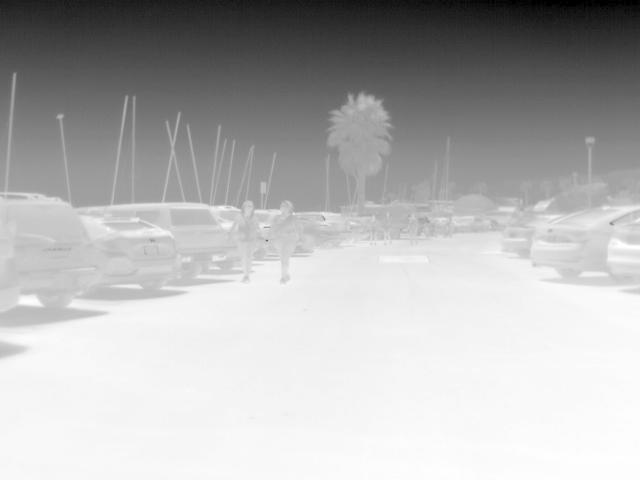car: (79, 202, 236, 282), (1, 189, 102, 312), (79, 211, 181, 296), (531, 204, 640, 282), (501, 214, 562, 257), (605, 216, 640, 285), (297, 212, 349, 249), (450, 215, 482, 234)
person: (266, 200, 305, 285), (234, 199, 262, 283), (380, 210, 395, 242), (367, 213, 381, 243), (406, 211, 420, 240)
